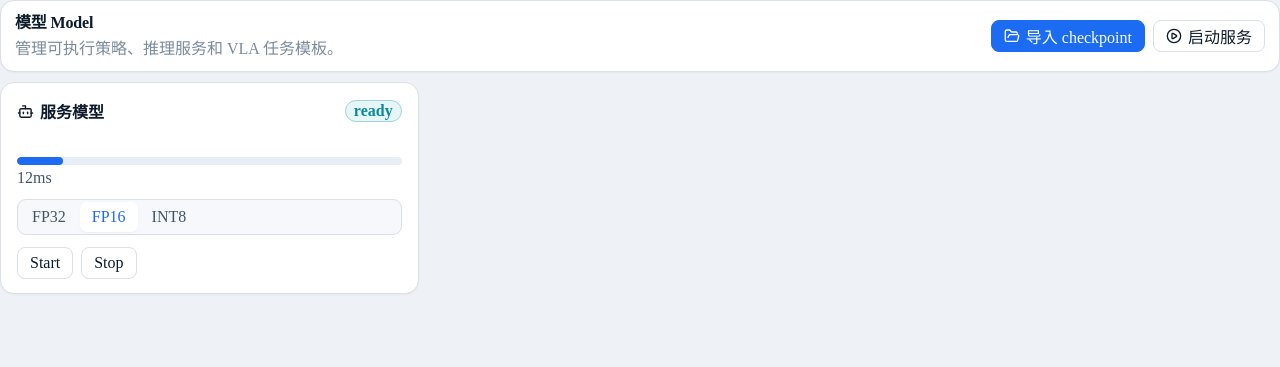
Test: model 请求生命周期 › 命令失败会显示错误并恢复可操作状态
Expected: the text "服务模型" is shown, x1=17 y1=99 x2=104 y2=123
What coordinates should you click on to do the following:
click the button "启动服务"
I would click on:
 (1209, 36)
Its box is x1=1153 y1=20 x2=1265 y2=52.
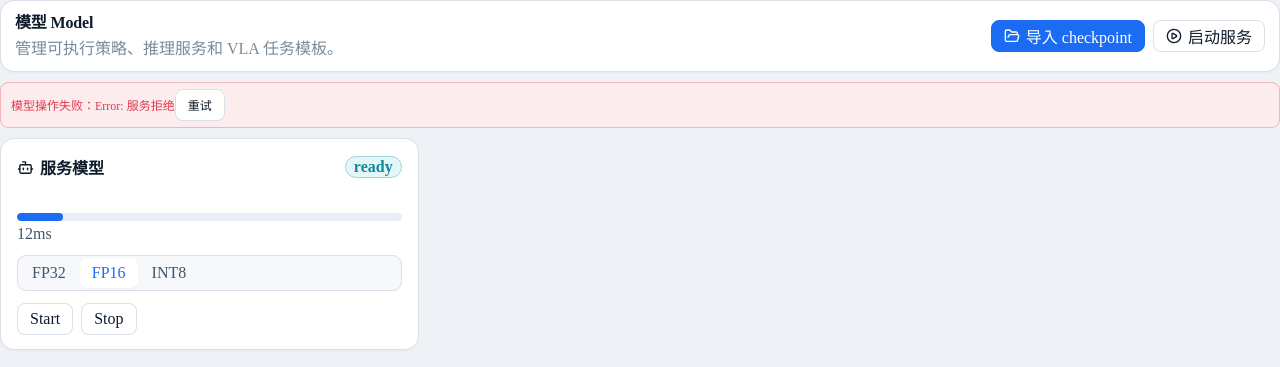
Now the message shows "服务拒绝", box x1=11 y1=99 x2=175 y2=113
